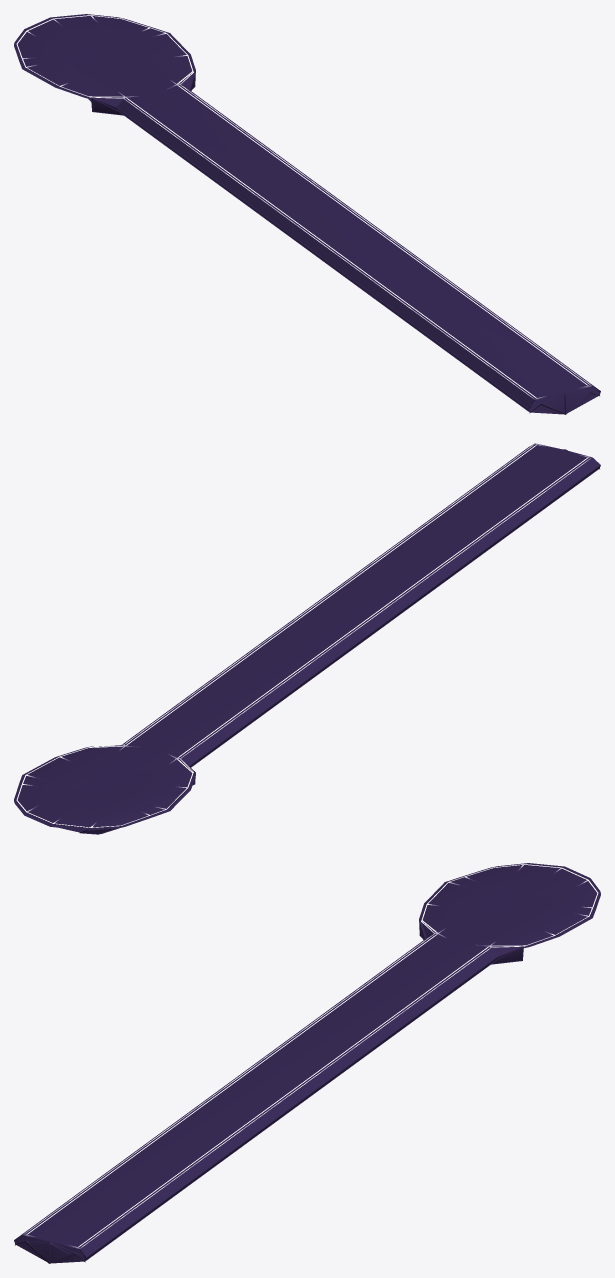
File: dancingCube.fbx
3 renders of one model, top to bottom at view 1: azimuth 30°, elevation 25°; view 2: azimuth 150°, elevation 25°; view 3: azimuth 330°, elevation 25°, orthographic.
Parts seen in each view (by area): view 1: dancingCube_Baked; view 2: dancingCube_Baked; view 3: dancingCube_Baked.
Part boxes in pixels (x1,y1,x2,y2): dancingCube_Baked: (14,14,600,414); dancingCube_Baked: (14,443,600,834); dancingCube_Baked: (14,863,600,1263).
Size of the model in its own units: 2140 by 331 by 12918.
Materials: 1 (1 with a texture image).
